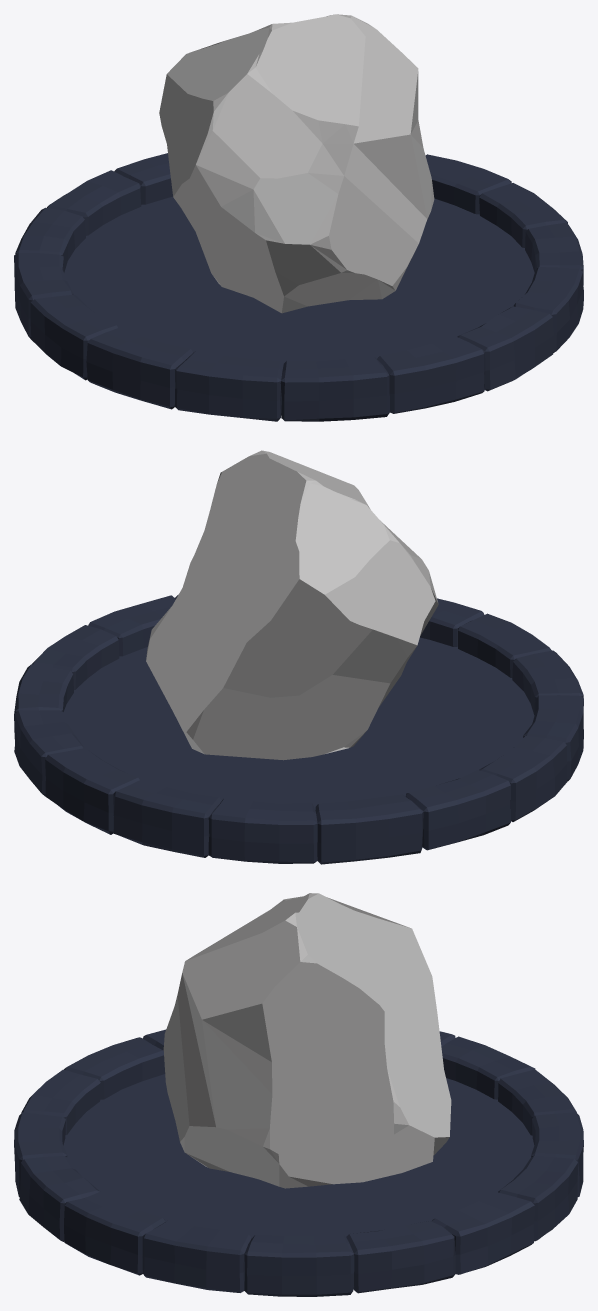
File: VisualModel.fbx
3 views of the same model, one above another, from view 1: azimuth 30°, elevation 25°; view 2: azimuth 150°, elevation 25°; view 3: azimuth 270°, elevation 25° (orthographic).
Parts seen in each view (by area): view 1: Rock, Curb, CirclePlane; view 2: Rock, Curb, CirclePlane; view 3: Rock, Curb, CirclePlane.
Part boxes in pixels (<box>): Rock: <box>159,14,434,313</box>; Curb: <box>14,153,583,421</box>; CirclePlane: <box>64,196,534,363</box>; Rock: <box>146,450,438,760</box>; Curb: <box>14,594,583,864</box>; CirclePlane: <box>63,637,534,809</box>; Rock: <box>163,893,451,1188</box>; Curb: <box>14,1029,583,1296</box>; CirclePlane: <box>63,1074,534,1238</box>.
Bounding box in the file's own units: 385 × 211 × 385.
